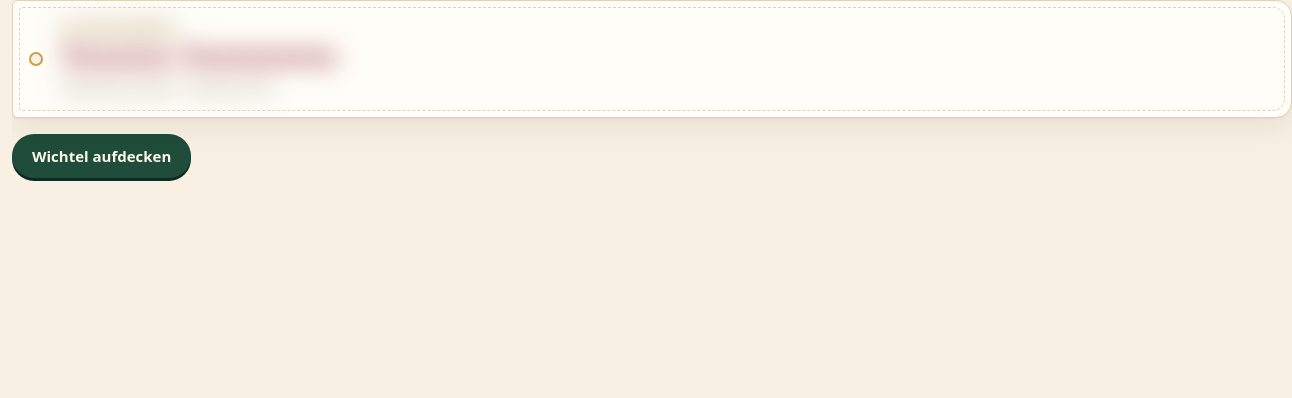
Test: AssignmentReveal › reveals the name together with the wishes
Click the button "Wichtel aufdecken".
click(102, 156)  # box [12,134,191,178]
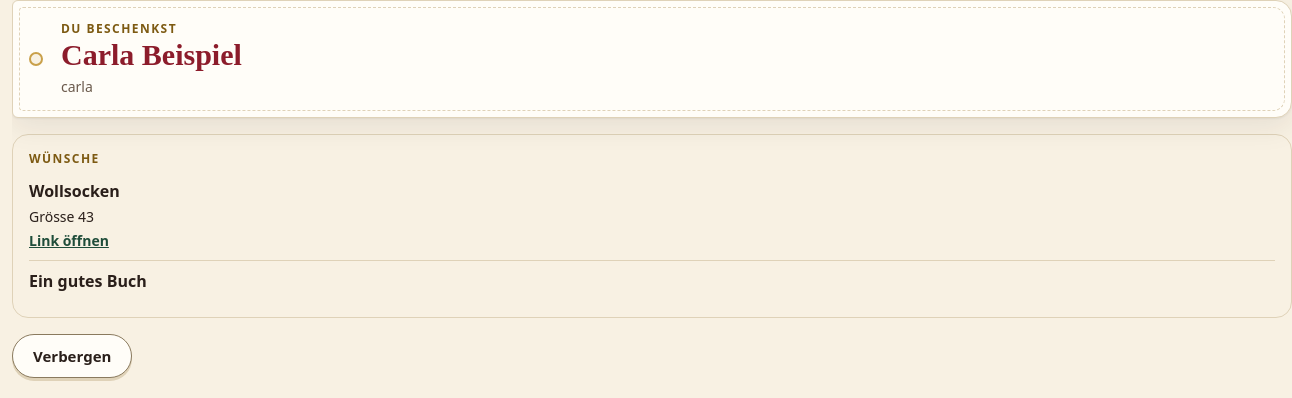
Check: the text "Carla Beispiel" is shown, box [61,38,242,71]
Check: the text "Wollsocken" is shown, box [29,180,120,202]
Check: the text "Grösse 43" is shown, box [29,207,94,226]
